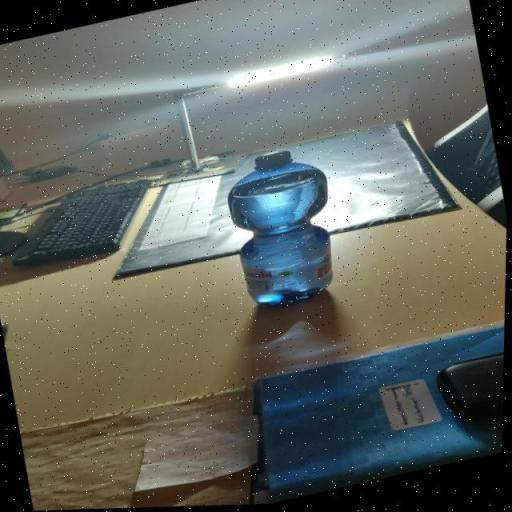plastic: (220, 144, 350, 316)
